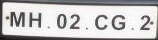character: (9, 10, 24, 28), (93, 13, 107, 30), (111, 14, 125, 30), (28, 11, 41, 28), (139, 14, 150, 31), (56, 13, 66, 29), (69, 13, 79, 29)
